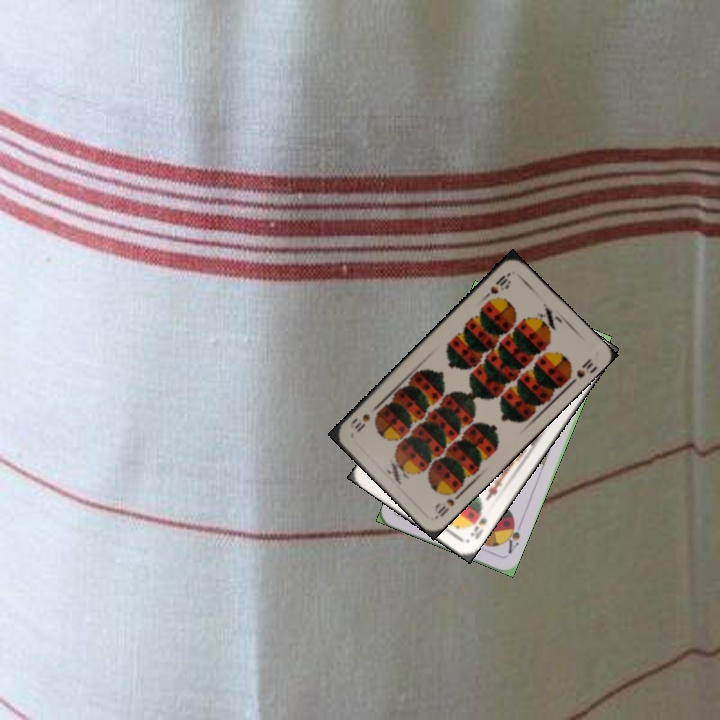S10: (430, 485, 465, 520), (480, 269, 513, 301)
SA: (501, 517, 523, 557)
SK: (466, 513, 490, 542)
